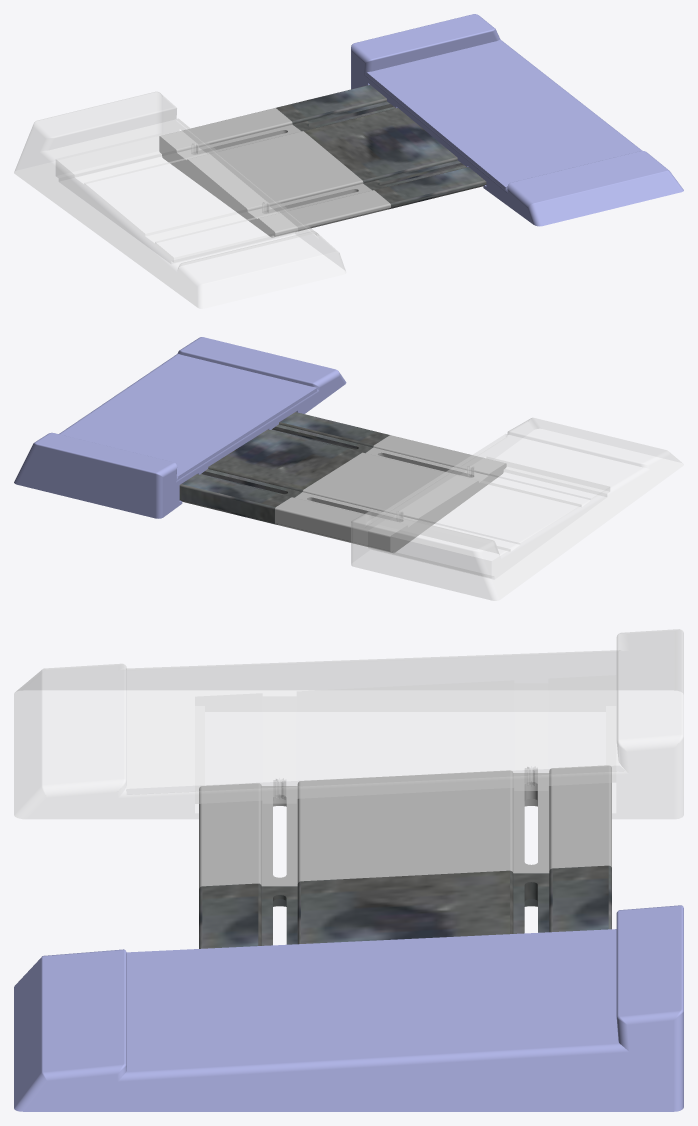
File: example.glb
3 renders of one model, top to bottom at view 1: azimuth 30°, elevation 25°; view 2: azimuth 150°, elevation 25°; view 3: azimuth 270°, elevation 25°, orthographic. The views are drawn at different scales.
Visible parts, largest first — view 1: Твердое тело1 (×2), Твердое тело2 (×2); view 2: Твердое тело1 (×2), Твердое тело2 (×2); view 3: Твердое тело1 (×2), Твердое тело2 (×2).
Boxes of the visible parts, x1=… form: Твердое тело1 (×2): x1=14, y1=14, x2=683, y2=308; Твердое тело2 (×2): x1=159, y1=85, x2=486, y2=237; Твердое тело1 (×2): x1=14, y1=337, x2=683, y2=600; Твердое тело2 (×2): x1=179, y1=412, x2=506, y2=552; Твердое тело1 (×2): x1=14, y1=629, x2=683, y2=1111; Твердое тело2 (×2): x1=199, y1=765, x2=611, y2=948.
Bounding box in the file's own units: 0.294 × 0.0263 × 0.1976.
4 materials, 1 textured.
